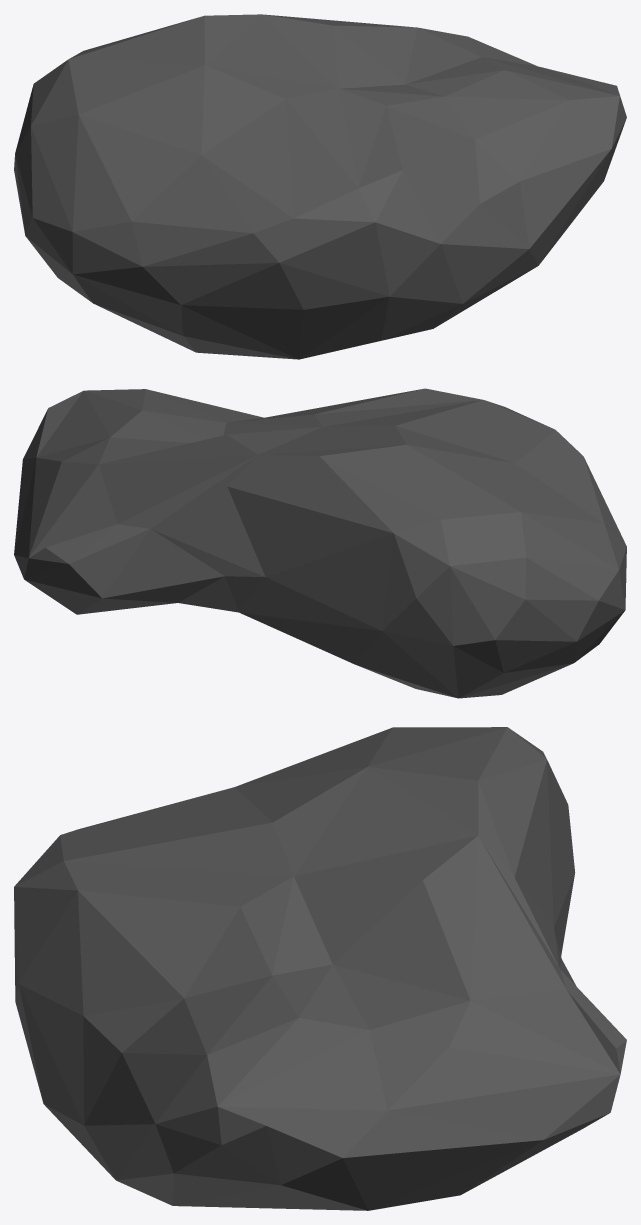
The model's file is stone4.fbx.
The picture shows the model from 3 angles, top to bottom: view 1: azimuth 30°, elevation 25°; view 2: azimuth 150°, elevation 25°; view 3: azimuth 270°, elevation 25°; orthographic projection. The views are drawn at different scales.
Visible parts, largest first — view 1: stone4; view 2: stone4; view 3: stone4.
Part boxes in pixels (<box>): stone4: <box>14,14,626,359</box>; stone4: <box>14,388,626,698</box>; stone4: <box>14,727,626,1210</box>.
Size of the model in its own units: 144 by 62.33 by 103.
